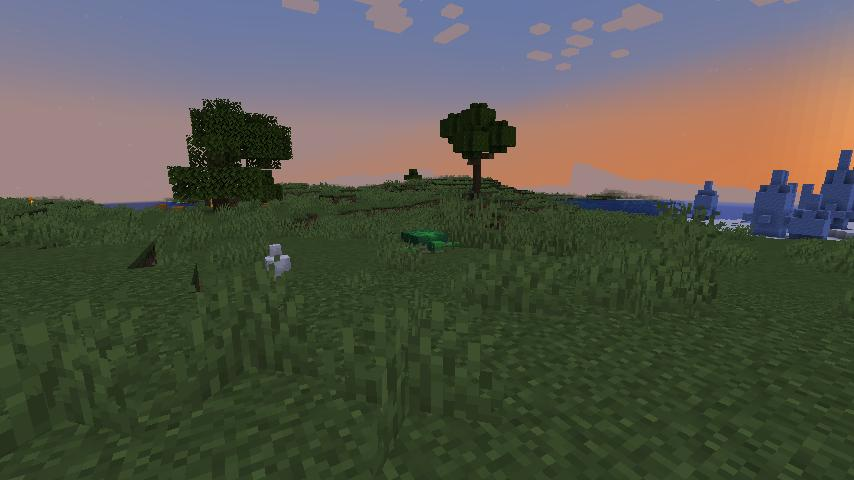chicken: (263, 240, 296, 283)
turtle: (397, 224, 461, 256)
